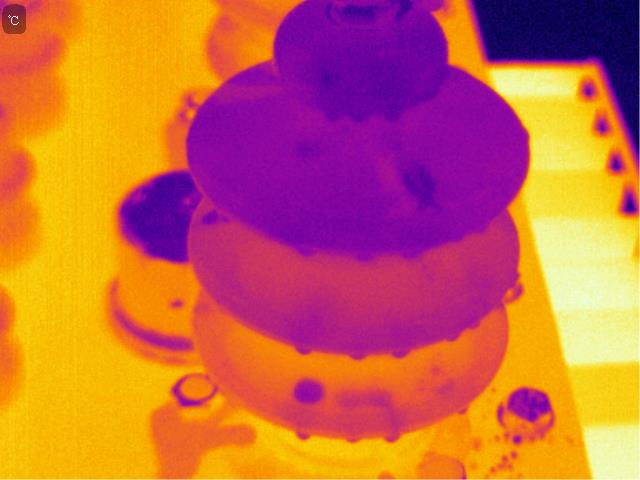Water: (399, 159, 440, 210), (334, 389, 396, 412), (291, 378, 329, 408), (394, 239, 427, 263), (289, 239, 323, 262), (197, 208, 228, 226), (295, 139, 320, 161), (348, 107, 374, 127), (354, 247, 378, 267), (463, 314, 483, 335), (443, 327, 465, 346), (321, 73, 343, 92), (381, 428, 404, 446), (321, 106, 340, 126), (471, 220, 492, 238), (454, 399, 472, 419), (437, 381, 460, 395), (291, 343, 313, 356), (519, 123, 532, 144), (384, 108, 401, 123), (349, 351, 366, 364), (345, 434, 363, 446), (296, 427, 312, 440), (429, 364, 445, 377), (390, 349, 406, 360)
